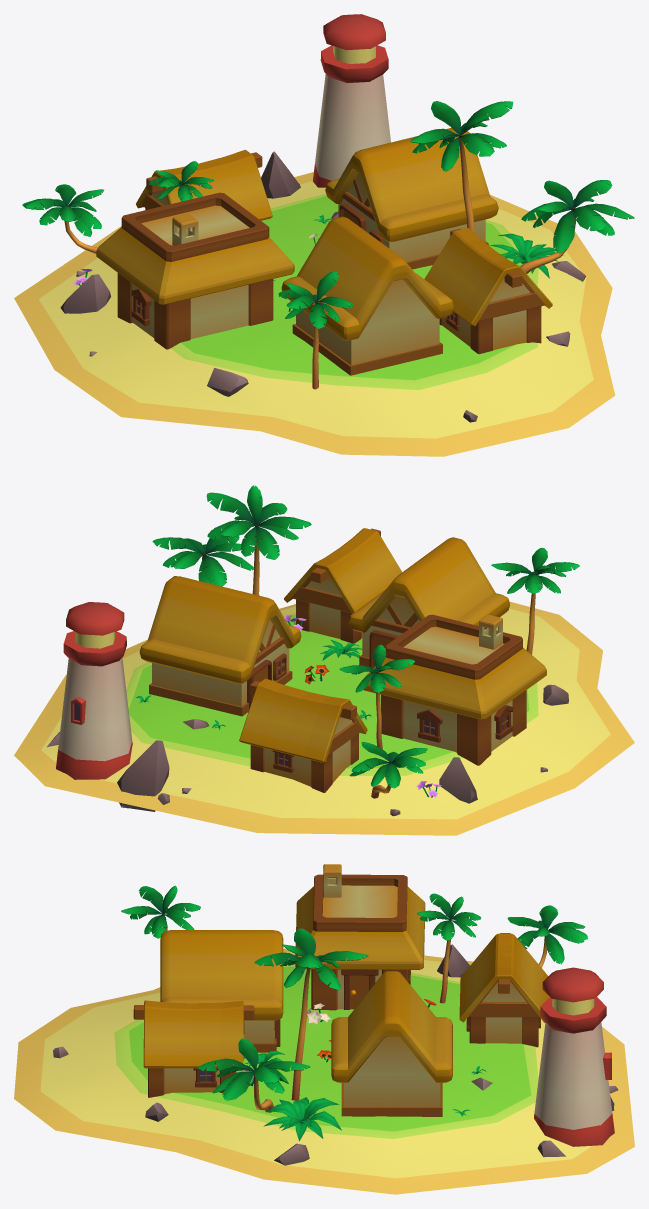
Rendered from ISLAND_VILLAGE_01.obj.
The picture shows the model from 3 angles, top to bottom: view 1: azimuth 30°, elevation 25°; view 2: azimuth 150°, elevation 25°; view 3: azimuth 270°, elevation 25°; orthographic projection. The views are drawn at different scales.
Visible parts, largest first — view 1: Object004, Roof, Roof001, Object001, House001, Lighthouse_01, Object005, Object003, M_Island, Palm_Tree_C_03, Palm_Tree_B_02, Object002 (+15 smaller); view 2: Object004, Roof, Roof001, Object002, Object001, Lighthouse_01, Object005, Palm_Tree_B_02, House, M_Island, Object003, Lighthouse_04 (+19 smaller); view 3: Object004, Roof001, Roof, Lighthouse_01, Object005, House, Object001, Object002, Palm_Tree_B_02, Lighthouse_04, Palm_Tree_C_03, Object003 (+17 smaller).
Part boxes in pixels (box(x1,y1,x2,y2)): Object004: box(14, 172, 615, 456); Roof: box(325, 128, 498, 241); Roof001: box(281, 216, 454, 340); Object001: box(96, 227, 294, 304); House001: box(292, 279, 442, 375); Lighthouse_01: box(315, 74, 390, 180); Object005: box(424, 228, 552, 326); Object003: box(121, 192, 269, 261); M_Island: box(60, 151, 585, 422); Palm_Tree_C_03: box(520, 180, 634, 273); Palm_Tree_B_02: box(410, 101, 513, 233); Object002: box(136, 149, 272, 220); Object004: box(14, 601, 634, 835); Roof: box(139, 576, 301, 683); Roof001: box(349, 537, 509, 632); Object002: box(239, 678, 367, 763); Object001: box(362, 647, 546, 719); Lighthouse_01: box(58, 658, 132, 761); Object005: box(284, 528, 402, 613); Palm_Tree_B_02: box(206, 485, 311, 595); House: box(149, 620, 292, 716); M_Island: box(47, 684, 568, 811); Object003: box(385, 614, 522, 679); Lighthouse_04: box(63, 602, 126, 666); Object004: box(14, 948, 634, 1194); Roof001: box(160, 930, 283, 1020); Roof: box(331, 971, 452, 1082); Lighthouse_01: box(534, 1022, 612, 1129); Object005: box(143, 1000, 244, 1068); House: box(341, 1037, 442, 1116); Object001: box(295, 886, 425, 969); Object002: box(459, 933, 549, 1022); Palm_Tree_B_02: box(254, 928, 368, 1100); Lighthouse_04: box(540, 967, 606, 1033); Palm_Tree_C_03: box(197, 1038, 310, 1112); Object003: box(313, 874, 407, 931).
Bounding box in the file's own units: 12.24 × 4.54 × 13.05.
23 materials, 23 textured.
